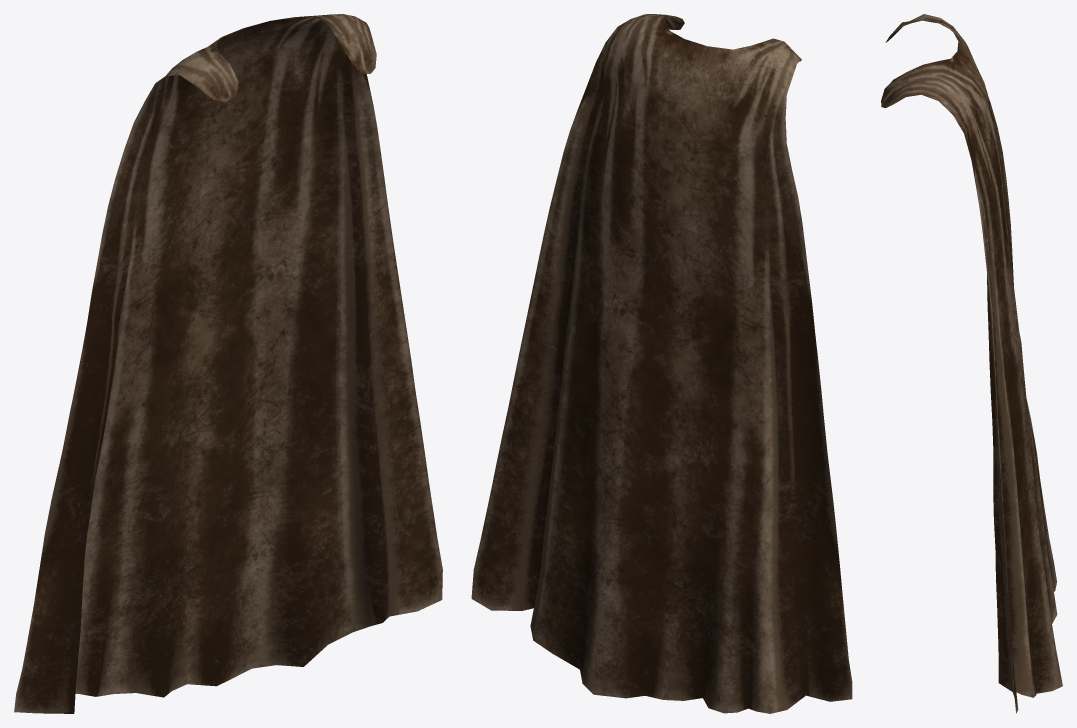
Rendered from dunland_caerdh_cape_long_a.fbx.
3 views of the same model, side by side, from view 1: azimuth 30°, elevation 25°; view 2: azimuth 150°, elevation 25°; view 3: azimuth 270°, elevation 25° (orthographic). The views are drawn at different scales.
Visible parts, largest first — view 1: dunland_caerdh_cape_long_a; view 2: dunland_caerdh_cape_long_a; view 3: dunland_caerdh_cape_long_a.
Boxes of the visible parts, x1=… form: dunland_caerdh_cape_long_a: x1=14, y1=14, x2=442, y2=713; dunland_caerdh_cape_long_a: x1=471, y1=14, x2=852, y2=713; dunland_caerdh_cape_long_a: x1=881, y1=14, x2=1062, y2=713.
Size of the model in its own units: 0.9531 by 0.3995 by 1.51.
Materials: 1 (1 with a texture image).
